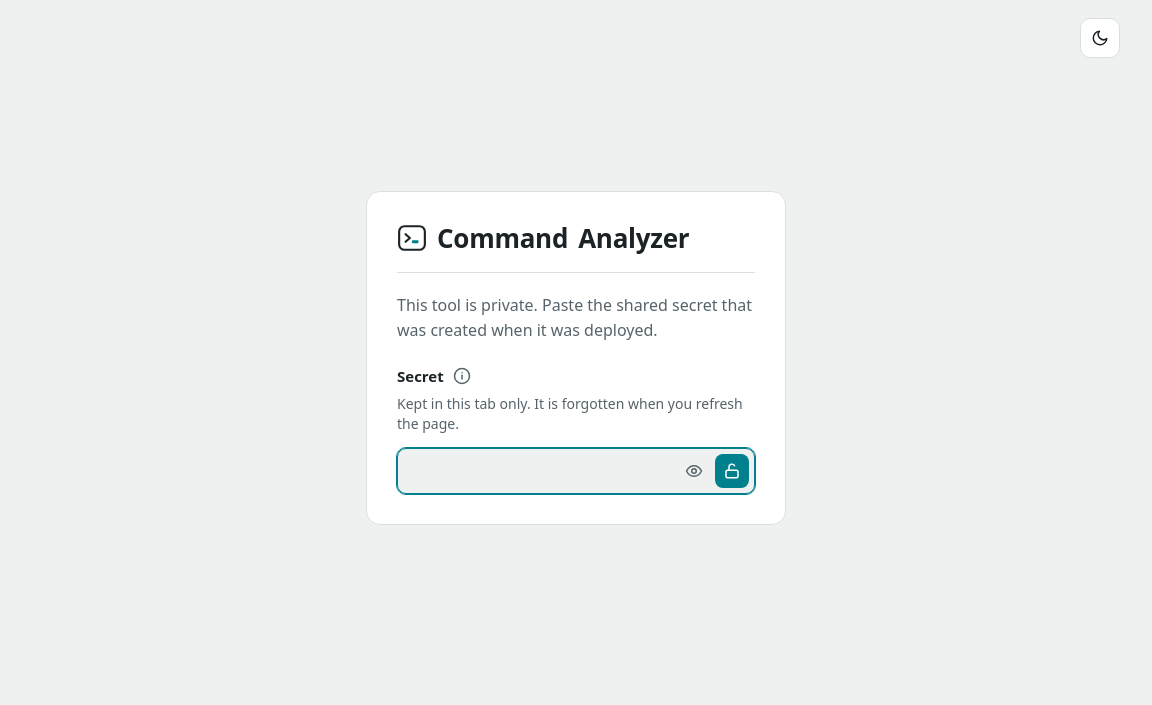
Test: analysis › Clear empties the text and the result
Type "pw" into the password field labelled "Secret". click: (576, 471)
box: [397,448,755,494]
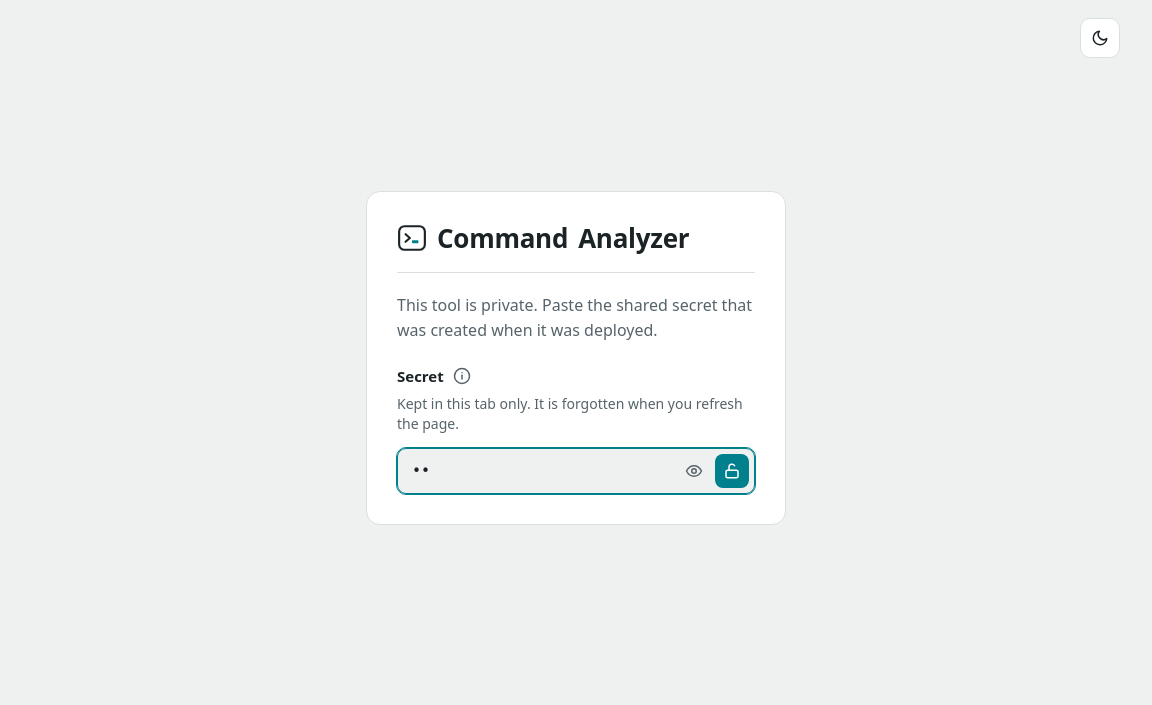
Click the button named "Unlock". click: (732, 471)
box: [715,454,749,488]
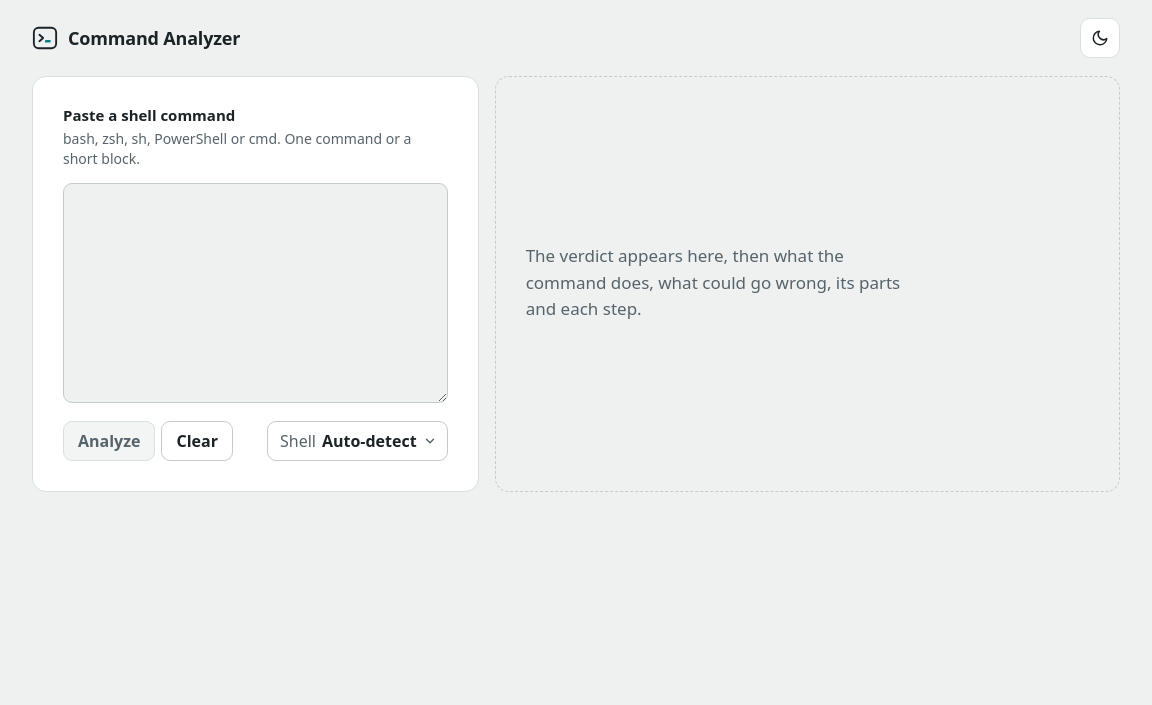
Expected: the text box labelled "Paste a shell command" is shown
Type "rm -rf build" into the text box labelled "Paste a shell command". click: (255, 293)
box: [63,183,448,403]
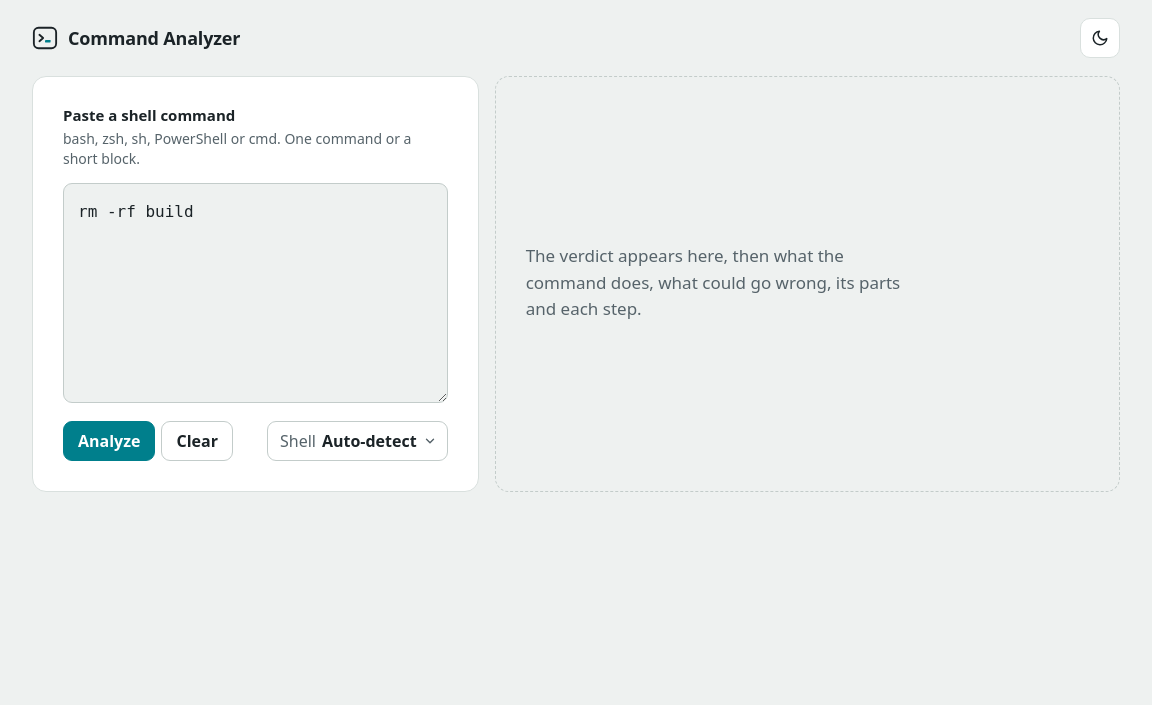
Click the button "Analyze". click: (109, 441)
box: [63,421,156,461]
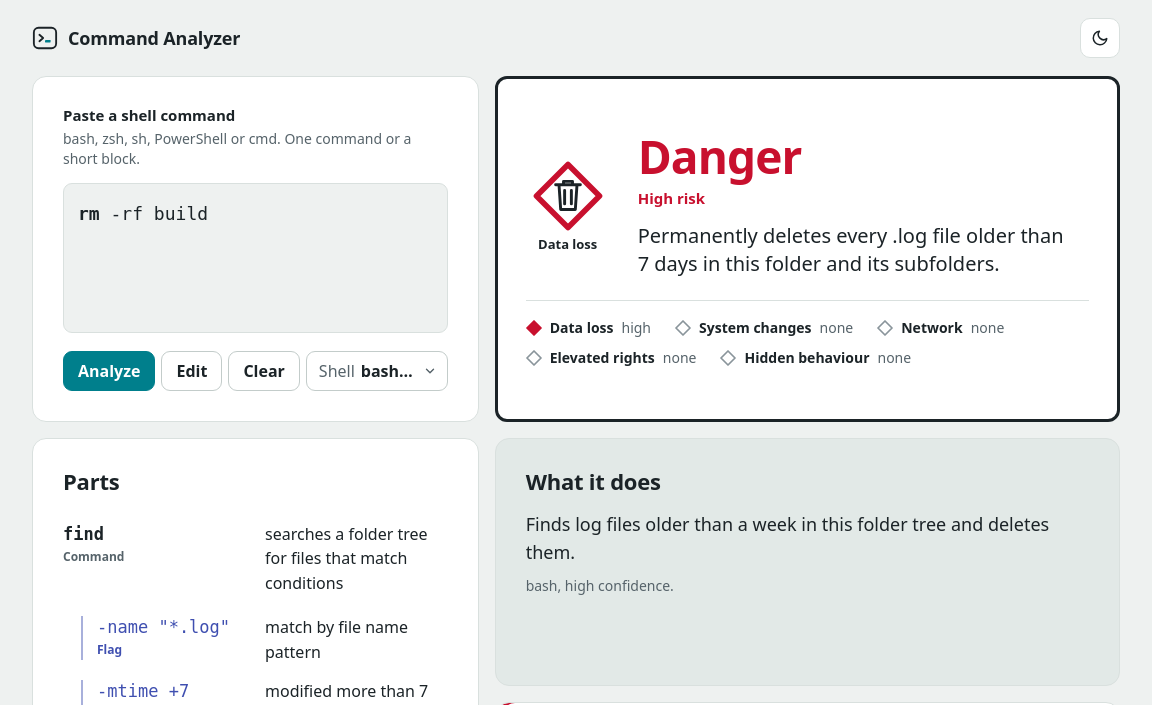
Expected: the text "Permanently deletes every .log file older than 7 days in this folder and its subfolders." is shown, [638,222,1064,277]
Click the button "Clear". click: (264, 371)
box: [228,351,300,391]
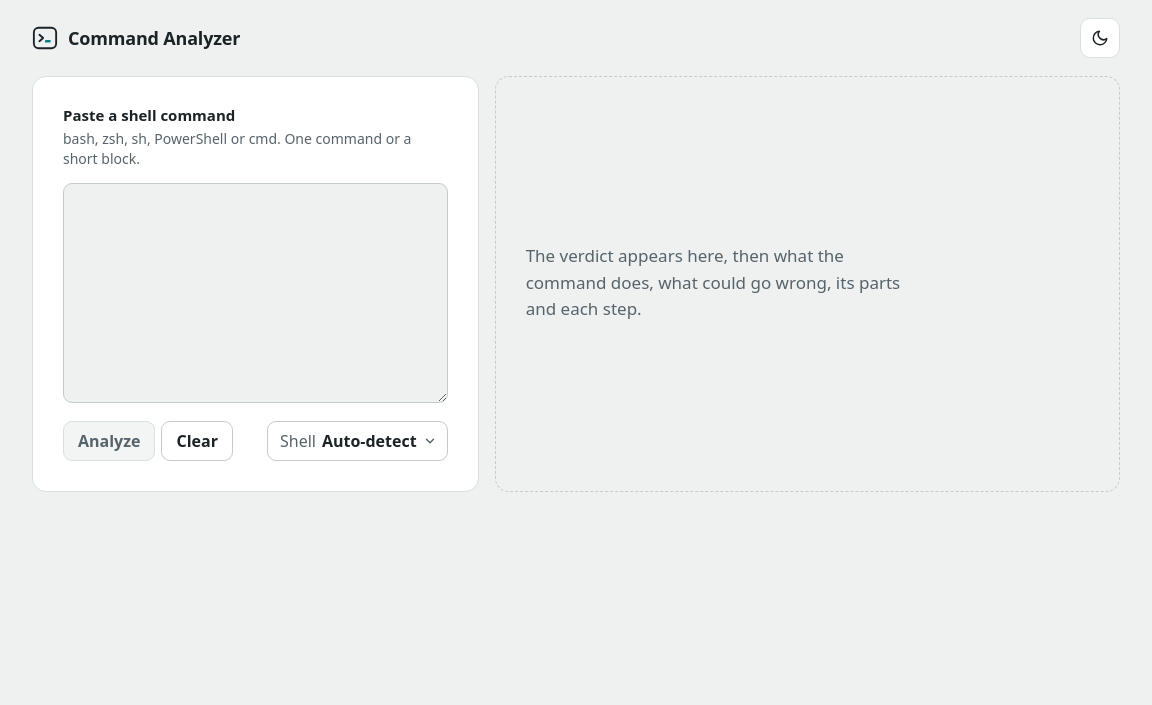
Expected: the text box labelled "Paste a shell command" is empty, [63,183,448,403]
Expected: the text "Permanently deletes every .log file older than 7 days in this folder and its subfolders." is gone
